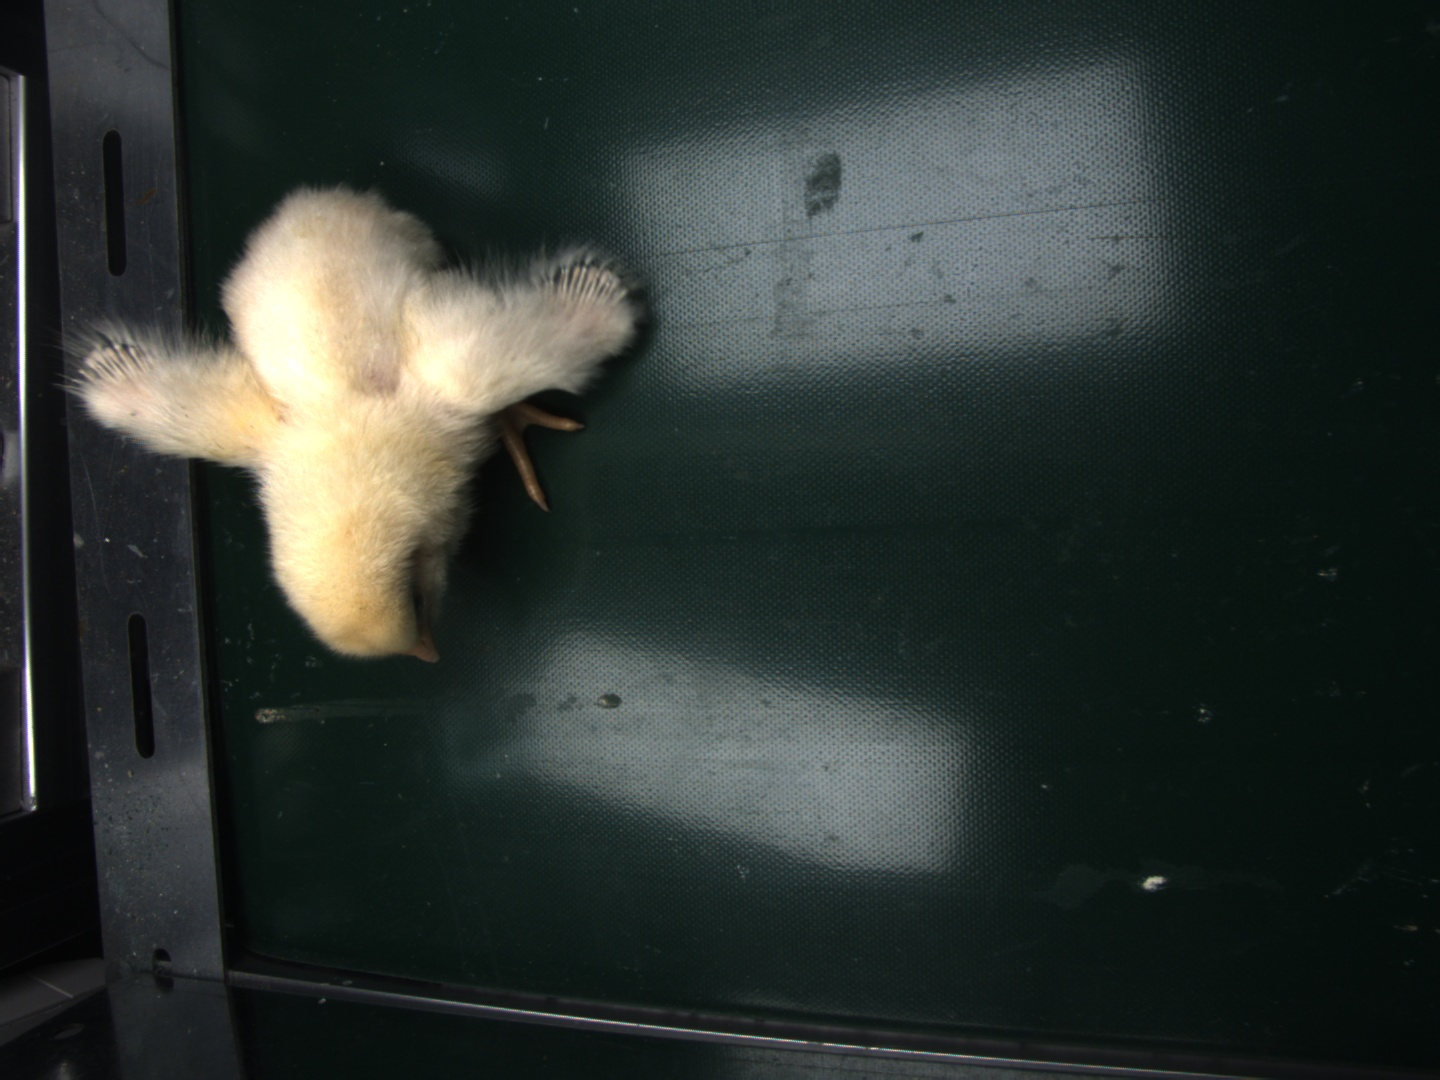male: (553, 260, 627, 305)
